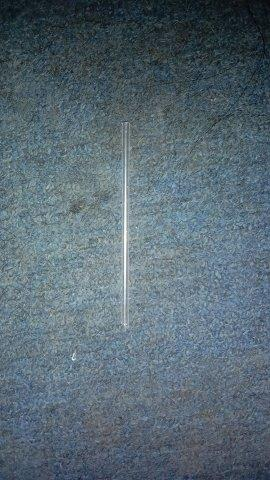sedotan: (120, 123, 130, 328)
